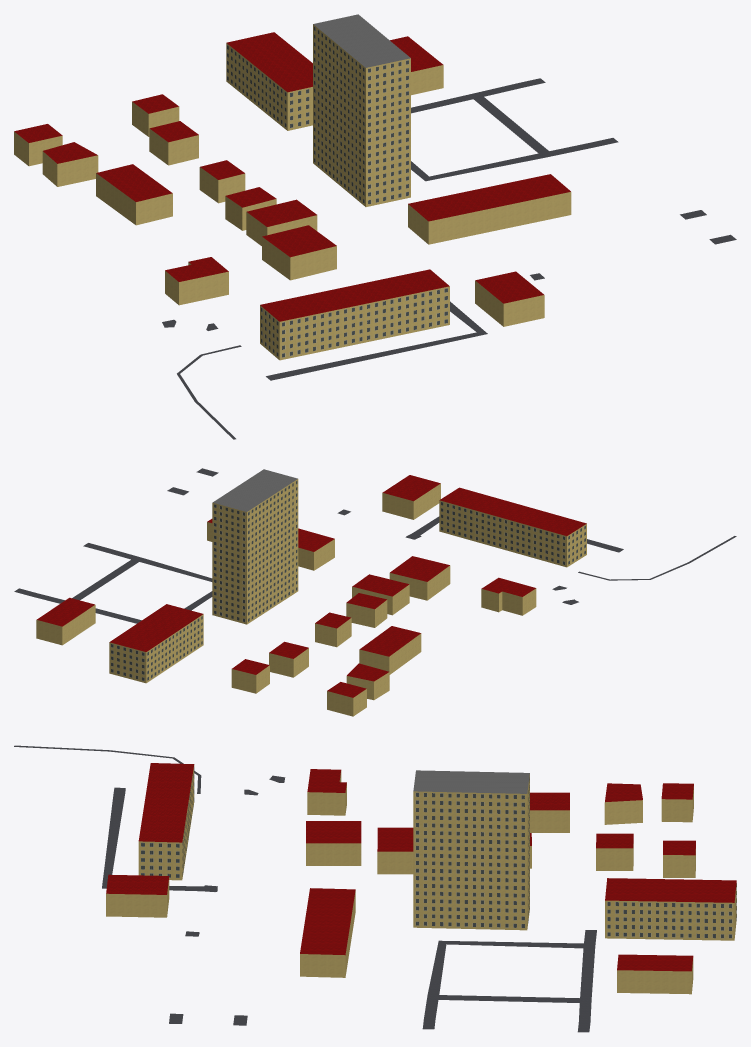
The model's file is district_1_1.glb.
The picture shows the model from 3 angles, top to bottom: view 1: azimuth 30°, elevation 25°; view 2: azimuth 150°, elevation 25°; view 3: azimuth 270°, elevation 25°; orthographic projection. The views are drawn at different scales.
Visible parts, largest first — view 1: Building w475516990, Building w44036201, Building w44036245, Building w44036287, Building w44036268, Building w44036244, Building w44036195, Building w1558948175, Building w625367582, Building w625367579, Building w625367580, Building Магнит (+7 smaller); view 2: Building w475516990, Building w44036201, Building w44036287, Building w44036268, Building Магнит, Building w44036195, Building w44036244, Building w1558948175, Building w44036245, Building w625367579, Building w625367578, Building w625367580 (+6 smaller); view 3: Building w475516990, Building w44036287, Building w44036201, Building w44036245, Building Магнит, Building w44036195, Building w44036244, Building w625367579, Building w1558948175, Building w44036268, Building w625367582, Road w1202749254 (+6 smaller).
Boxes of the visible parts, bbox=[...] form: Building w475516990: bbox=[313, 14, 410, 206]; Building w44036201: bbox=[260, 269, 449, 360]; Building w44036245: bbox=[408, 174, 571, 244]; Building w44036287: bbox=[226, 32, 312, 130]; Building w44036268: bbox=[96, 164, 172, 225]; Building w44036244: bbox=[262, 225, 336, 280]; Building w44036195: bbox=[475, 271, 544, 326]; Building w1558948175: bbox=[165, 257, 228, 305]; Building w625367582: bbox=[42, 142, 98, 186]; Building w625367579: bbox=[246, 199, 317, 245]; Building w625367580: bbox=[149, 121, 198, 165]; Building Магнит: bbox=[390, 36, 443, 95]; Building w475516990: bbox=[212, 469, 298, 624]; Building w44036201: bbox=[439, 487, 586, 567]; Building w44036287: bbox=[109, 604, 203, 683]; Building w44036268: bbox=[359, 626, 421, 674]; Building Магнит: bbox=[36, 597, 95, 645]; Building w44036195: bbox=[382, 475, 440, 519]; Building w44036244: bbox=[389, 556, 450, 600]; Building w1558948175: bbox=[481, 577, 536, 615]; Building w44036245: bbox=[207, 519, 334, 570]; Building w625367579: bbox=[352, 574, 409, 615]; Building w625367578: bbox=[346, 593, 387, 627]; Building w625367580: bbox=[269, 641, 308, 677]; Building w475516990: bbox=[413, 770, 529, 930]; Building w44036287: bbox=[605, 878, 736, 940]; Building w44036201: bbox=[138, 763, 194, 880]; Building w44036245: bbox=[300, 888, 355, 977]; Building Магнит: bbox=[617, 954, 693, 994]; Building w44036195: bbox=[106, 874, 169, 917]; Building w44036244: bbox=[306, 821, 361, 865]; Building w625367579: bbox=[377, 827, 413, 874]; Building w1558948175: bbox=[307, 769, 346, 815]; Building w44036268: bbox=[530, 792, 569, 832]; Building w625367582: bbox=[604, 783, 642, 824]; Road w1202749254: bbox=[424, 940, 583, 1019].
Bounding box in the file's own units: 203 × 45 × 216.
Materials: 5 (5 with a texture image).
